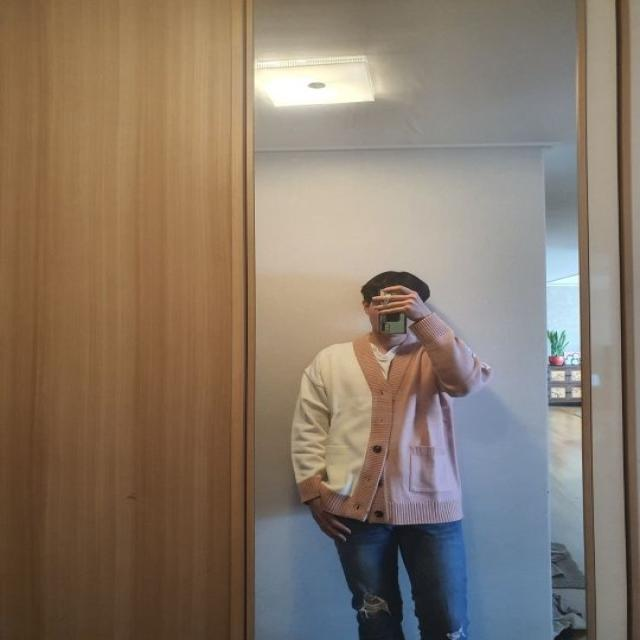cardigan: (291, 313, 487, 523)
denimpants: (331, 516, 472, 637)
